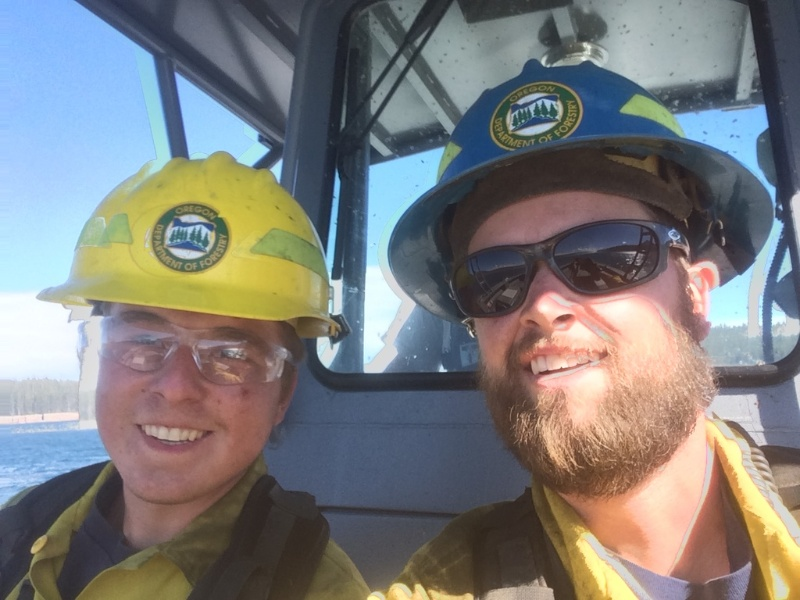Baret: (39, 151, 341, 338), (407, 59, 733, 226)
Gozluk: (97, 315, 311, 387)
